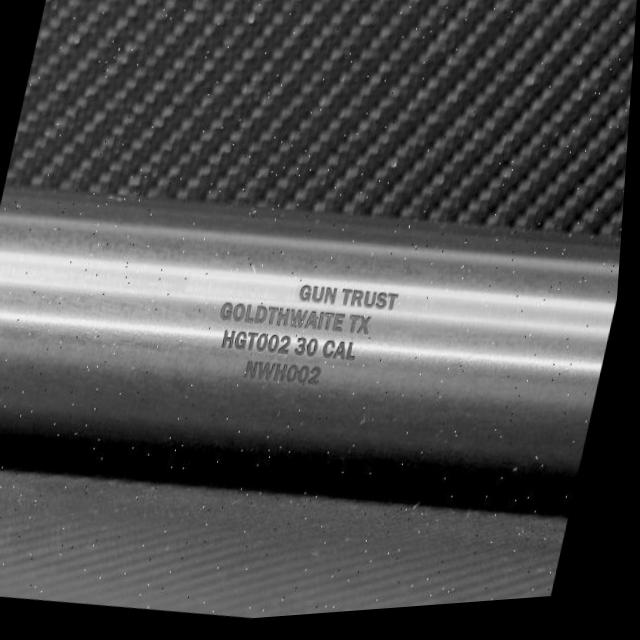ocr: (194, 263, 422, 426)
